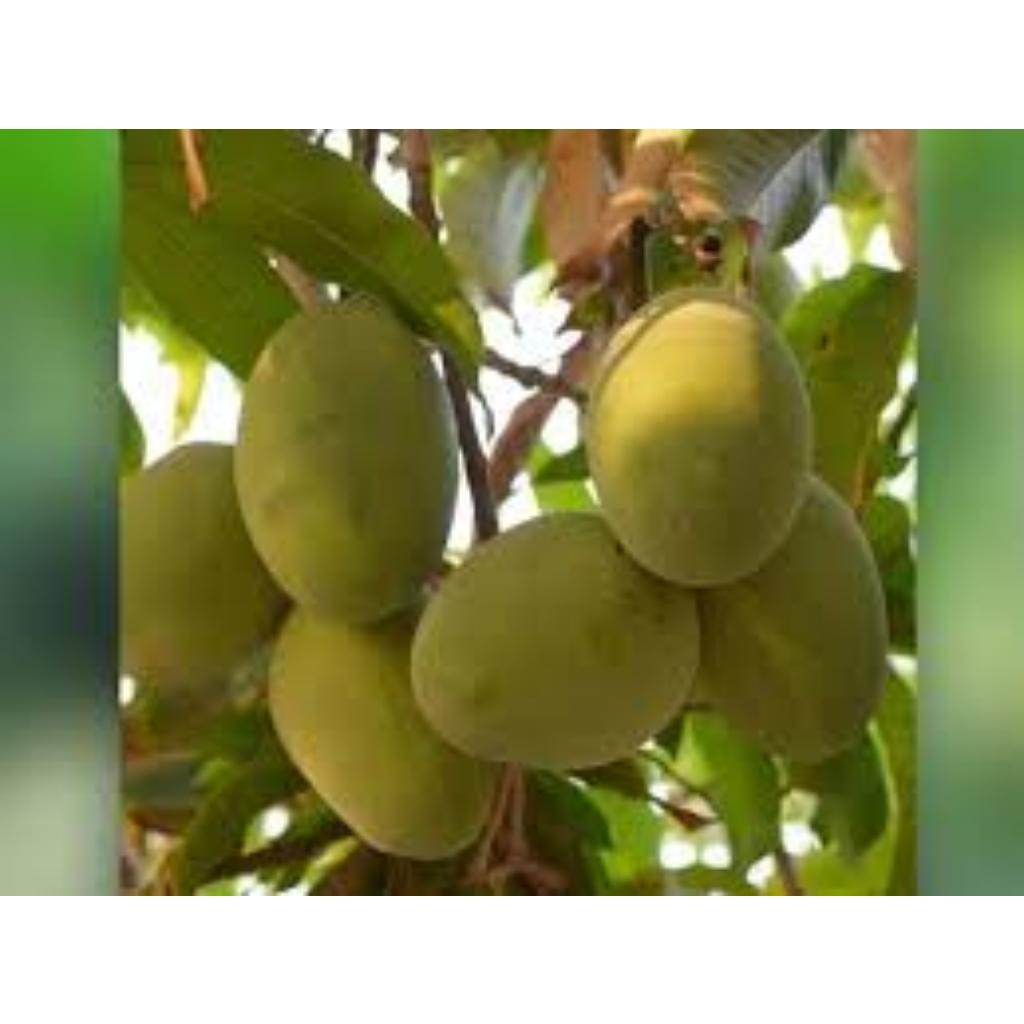mango: (220, 305, 460, 610), (407, 512, 694, 766), (585, 286, 818, 587), (261, 574, 511, 846), (696, 475, 890, 768), (121, 441, 287, 669)
